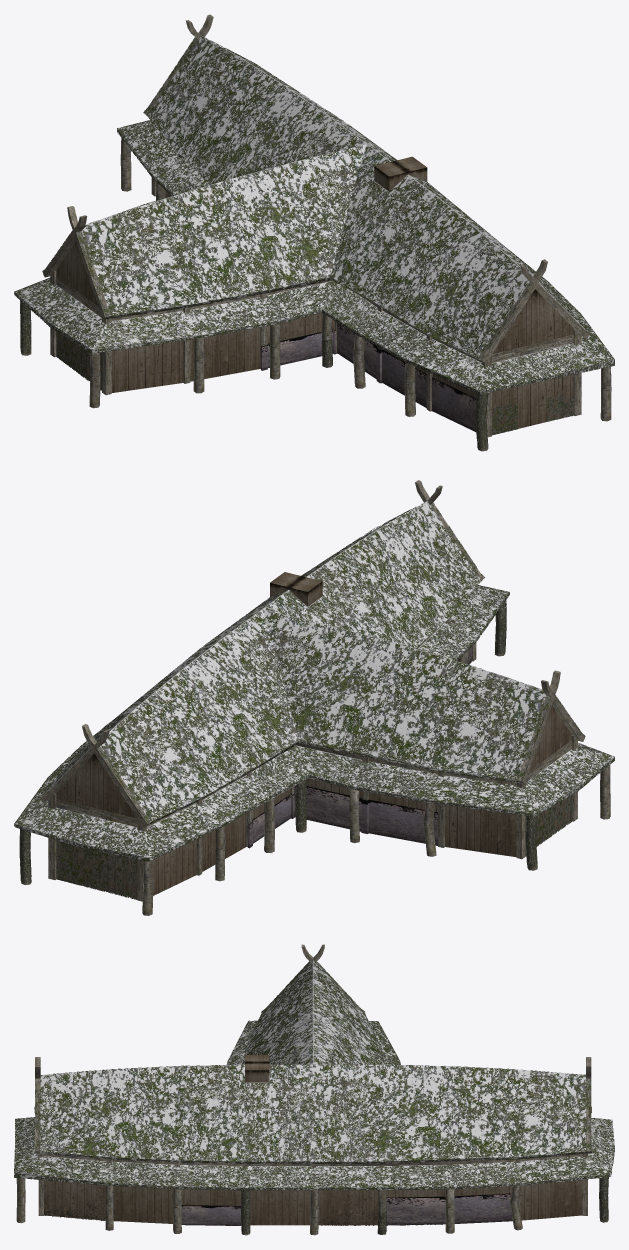
Rendered from T-House_LOD03.fbx.
3 renders of one model, top to bottom at view 1: azimuth 30°, elevation 25°; view 2: azimuth 150°, elevation 25°; view 3: azimuth 270°, elevation 25°, orthographic. The views are drawn at different scales.
Parts seen in each view (by area): view 1: T-House_LOD03; view 2: T-House_LOD03; view 3: T-House_LOD03.
Boxes of the visible parts, x1=… form: T-House_LOD03: x1=14, y1=14, x2=614, y2=451; T-House_LOD03: x1=14, y1=480, x2=614, y2=915; T-House_LOD03: x1=14, y1=944, x2=614, y2=1235.
Size of the model in its own units: 1460 by 548 by 2205.
